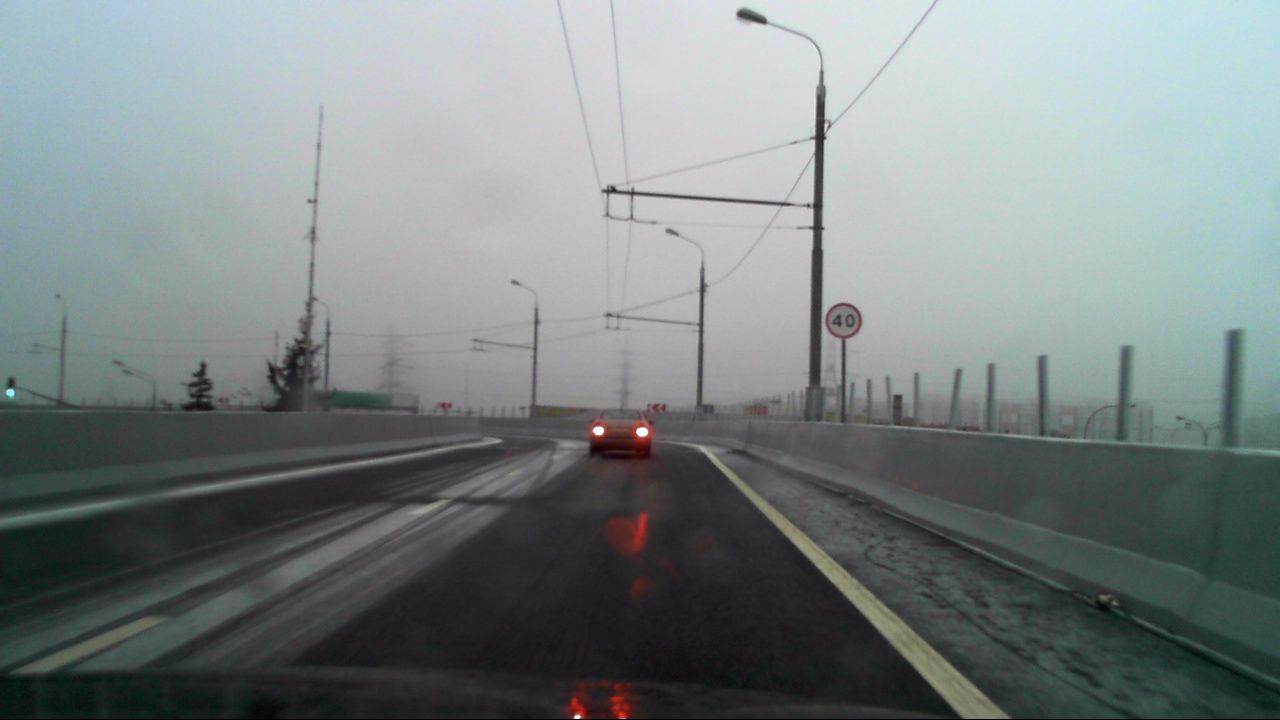speed_warning_40: (824, 302, 862, 339)
